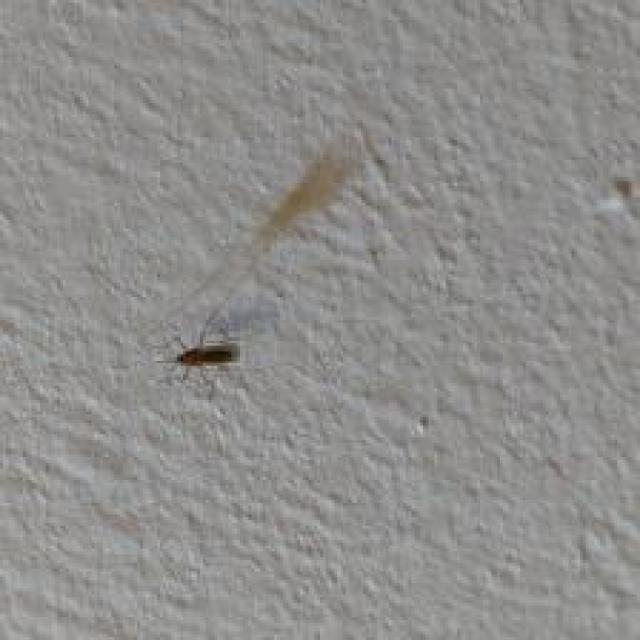Culex: (171, 308, 240, 368)
